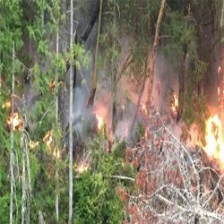fire: (11, 114, 98, 185), (195, 101, 224, 171)
